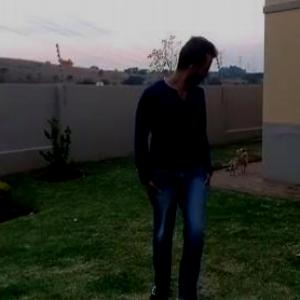follow: (132, 30, 223, 299)
